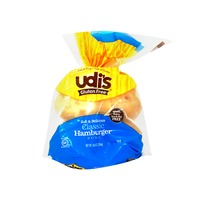hamburger_buns: (55, 71, 146, 168)
